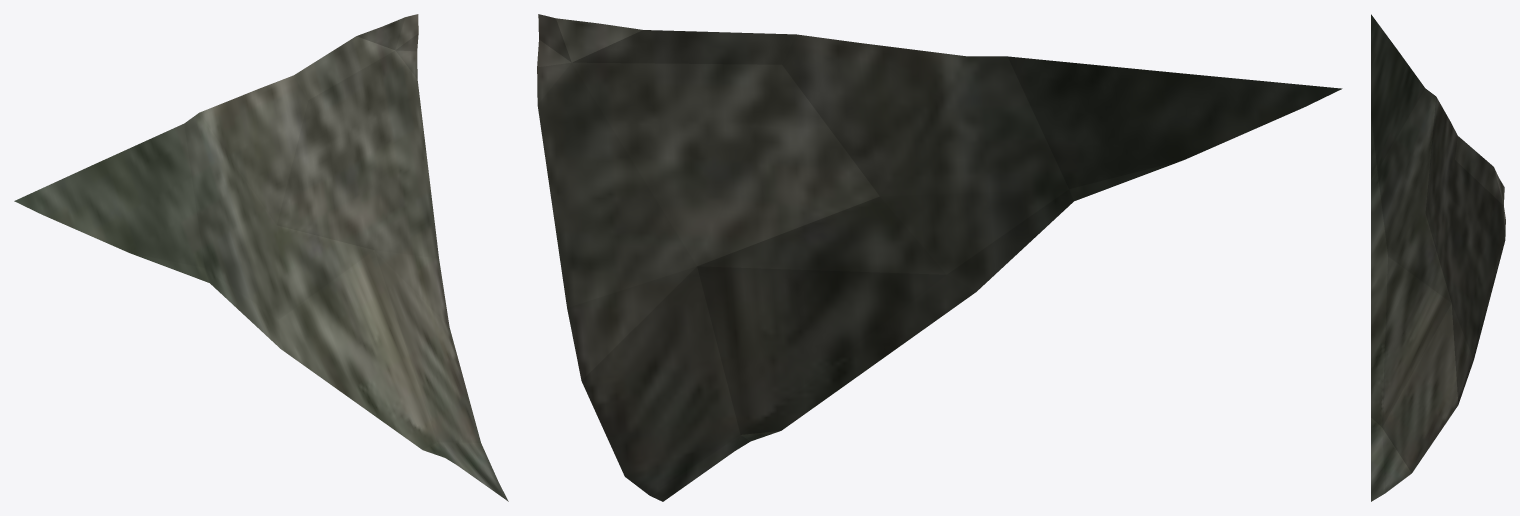
3 views of the same model, side by side, from view 1: azimuth 30°, elevation 25°; view 2: azimuth 150°, elevation 25°; view 3: azimuth 270°, elevation 25° (orthographic). The views are drawn at different scales.
Bounding box in the file's own units: 3 × 2.45 × 0.9642.
Materials: 1 (1 with a texture image).
